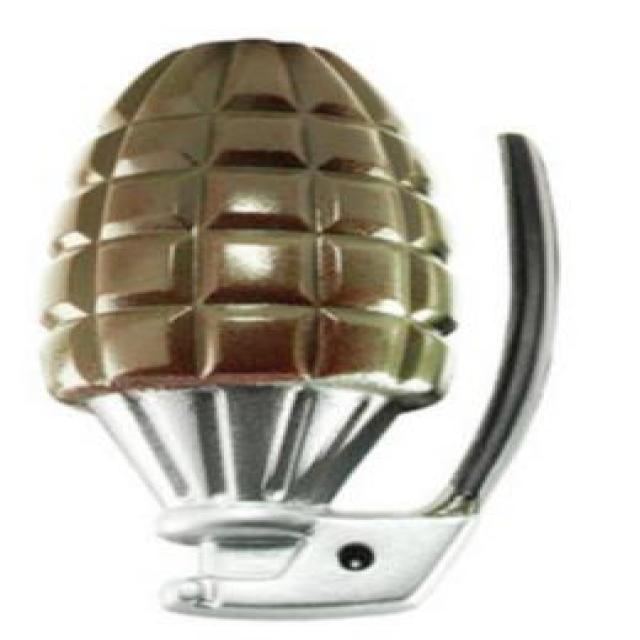grenade: (38, 39, 557, 622)
